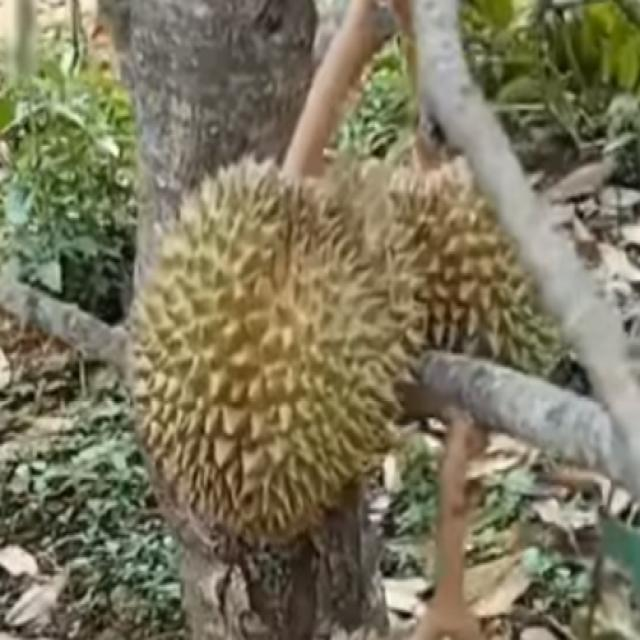mature: (128, 155, 416, 538)
